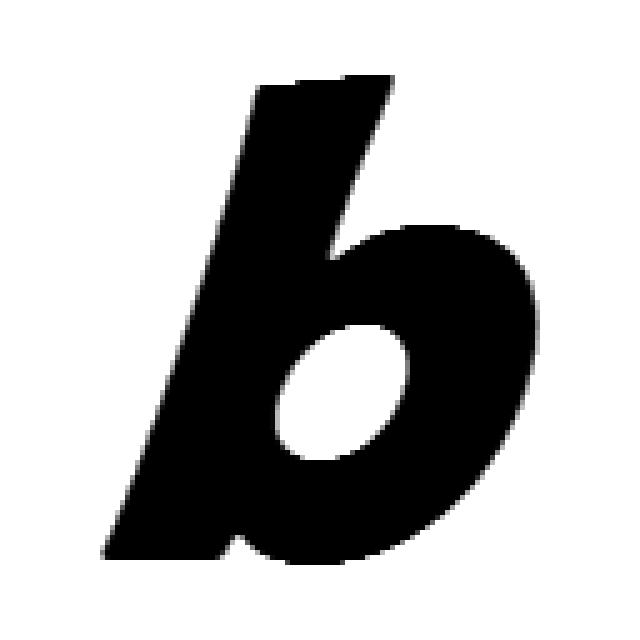B: (105, 75, 540, 570)
